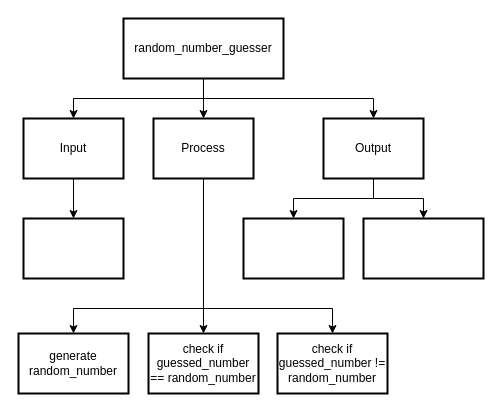
Some shapes in this 501 by 411 pixel diagram are drawn without their labels. Each missing label, with the centre of its shape:
get guessed_number: the point at 73,248
show You Guessed Correctly!: the point at 293,248
show You Guessed Incorrectly, the correct number was random_number.: the point at 423,248
